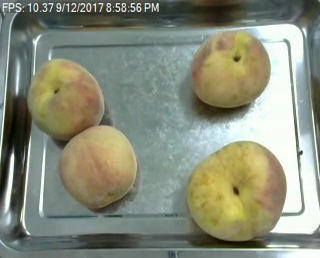Peach: (185, 140, 287, 241), (58, 124, 137, 210), (26, 57, 104, 139), (190, 29, 271, 107)
